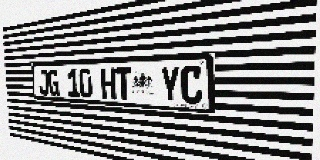0: (79, 68, 92, 98)
1: (67, 69, 79, 97)
C: (181, 65, 203, 105)
G: (48, 69, 59, 96)
H: (101, 68, 116, 99)
J: (38, 70, 49, 95)
T: (116, 67, 132, 100)
Y: (160, 66, 180, 103)
